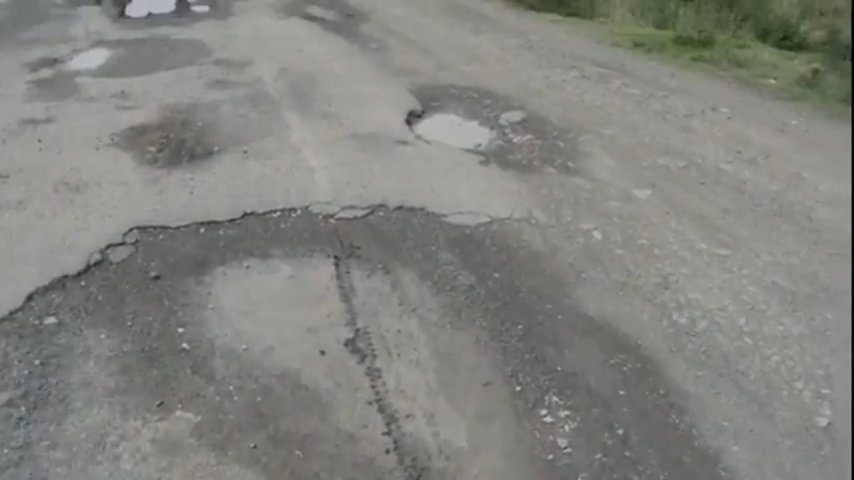pothole: (131, 309, 343, 480), (465, 67, 641, 223)
